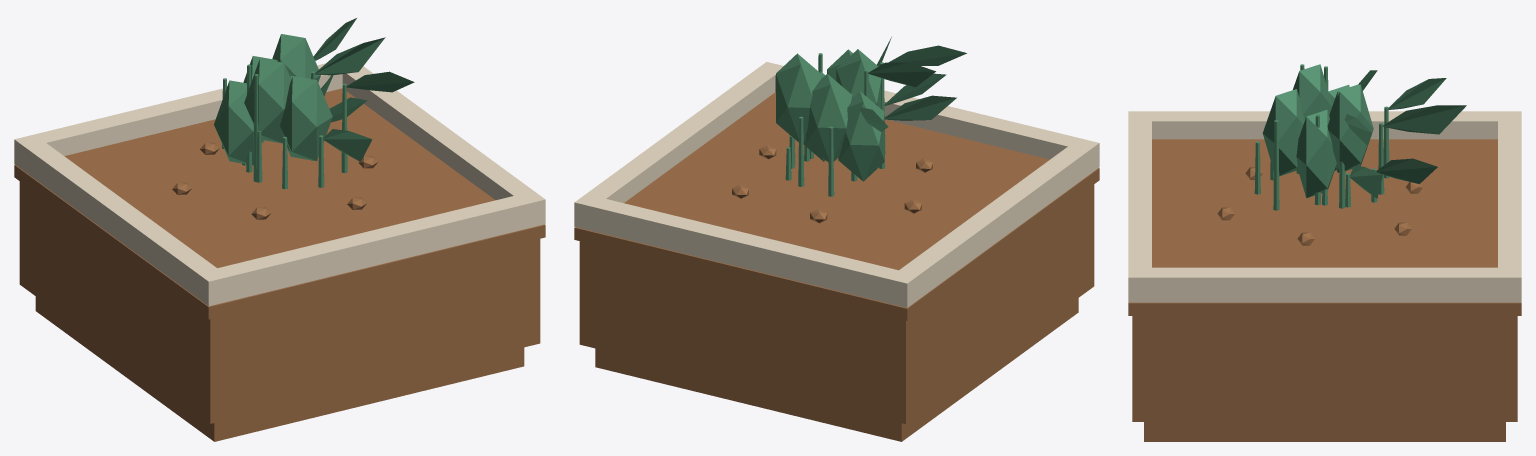
The model's file is LM_PROP_PlanterMamak.glb.
3 renders of one model, left to right at view 1: azimuth 30°, elevation 25°; view 2: azimuth 150°, elevation 25°; view 3: azimuth 270°, elevation 25°, orthographic. The views are drawn at different scales.
Parts seen in each view (by area): view 1: LM_PROP_PlanterMamak; view 2: LM_PROP_PlanterMamak; view 3: LM_PROP_PlanterMamak.
Boxes of the visible parts, x1,y1,x2,y2 form: LM_PROP_PlanterMamak: (14, 18, 545, 441); LM_PROP_PlanterMamak: (574, 37, 1099, 441); LM_PROP_PlanterMamak: (1128, 64, 1521, 441).
Bounding box in the file's own units: 2 × 1.72 × 2.
